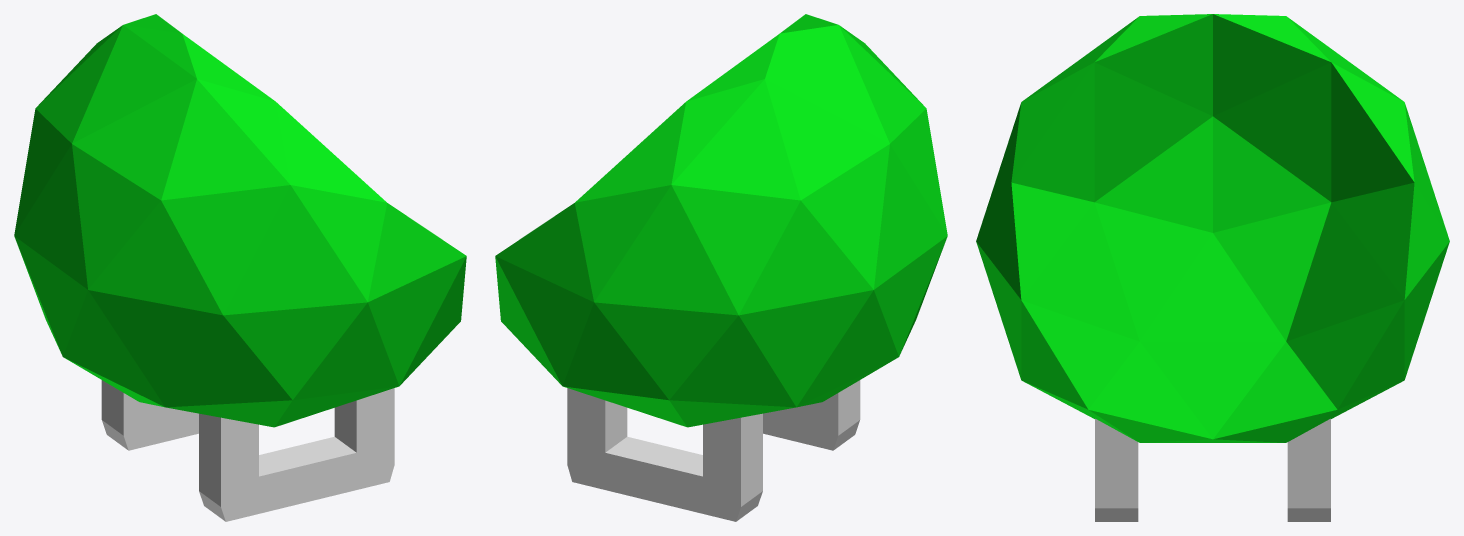
The model's file is AIEChair.fbx.
The picture shows the model from 3 angles, left to right: view 1: azimuth 30°, elevation 25°; view 2: azimuth 150°, elevation 25°; view 3: azimuth 270°, elevation 25°; orthographic projection.
Parts seen in each view (by area): view 1: Chair, Feet; view 2: Chair, Feet; view 3: Chair, Feet.
Part boxes in pixels (x1,y1,x2,y2): Chair: (14, 14, 466, 427); Feet: (101, 380, 394, 521); Chair: (495, 14, 947, 427); Feet: (567, 380, 860, 521); Chair: (976, 14, 1449, 442); Feet: (1095, 418, 1330, 521).
Bounding box in the file's own units: 472 × 533 × 524.
